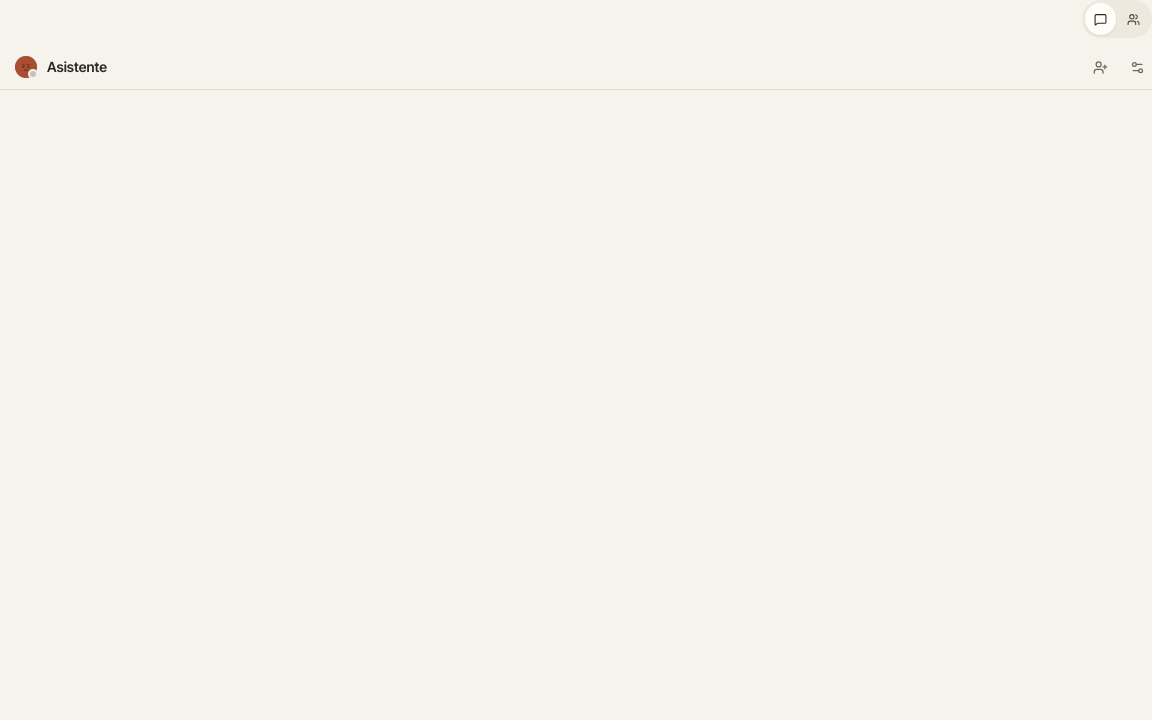
Test: D8: sumar un rol abre el mismo dialogo desde los dos lados › el boton de la cabecera abre exactamente el mismo dialogo
The width and height of the screenshot is (1152, 720).
Note: El rail arranca en conversacion: aca esta el boton de la cabecera.
Click the 1st button with class "team-tab-add" at (1100, 68), box [1086,48,1115,88]
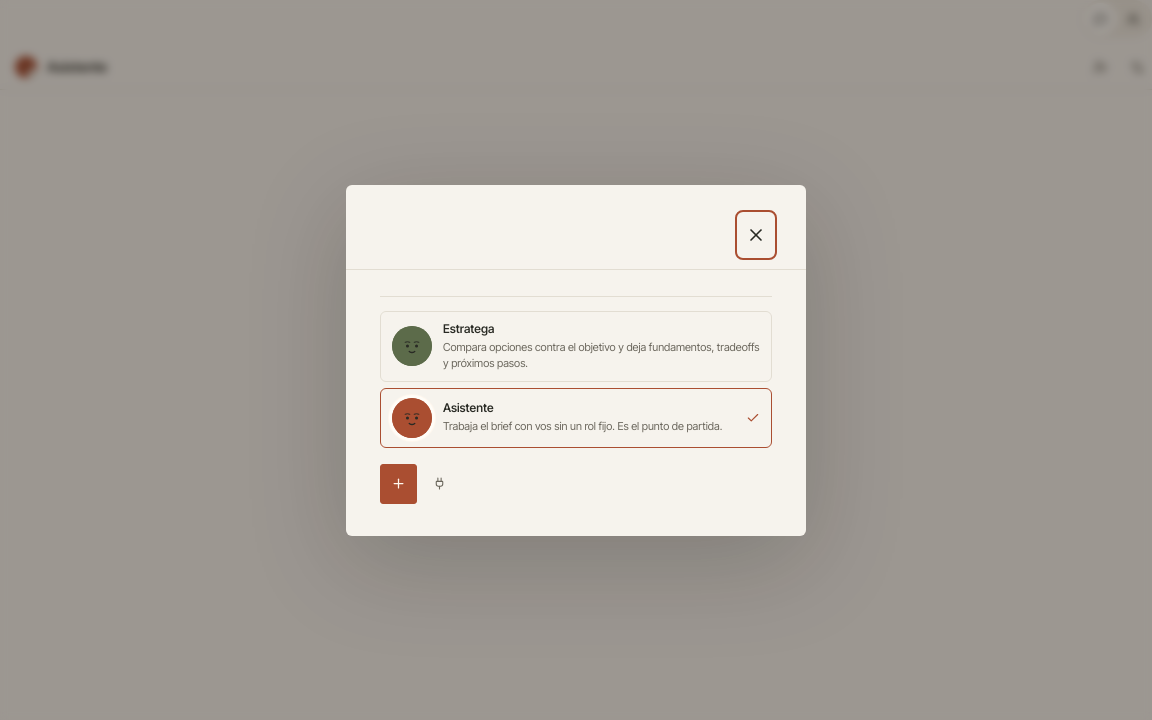
Expected: the dialog is shown, [346,184,806,536]
